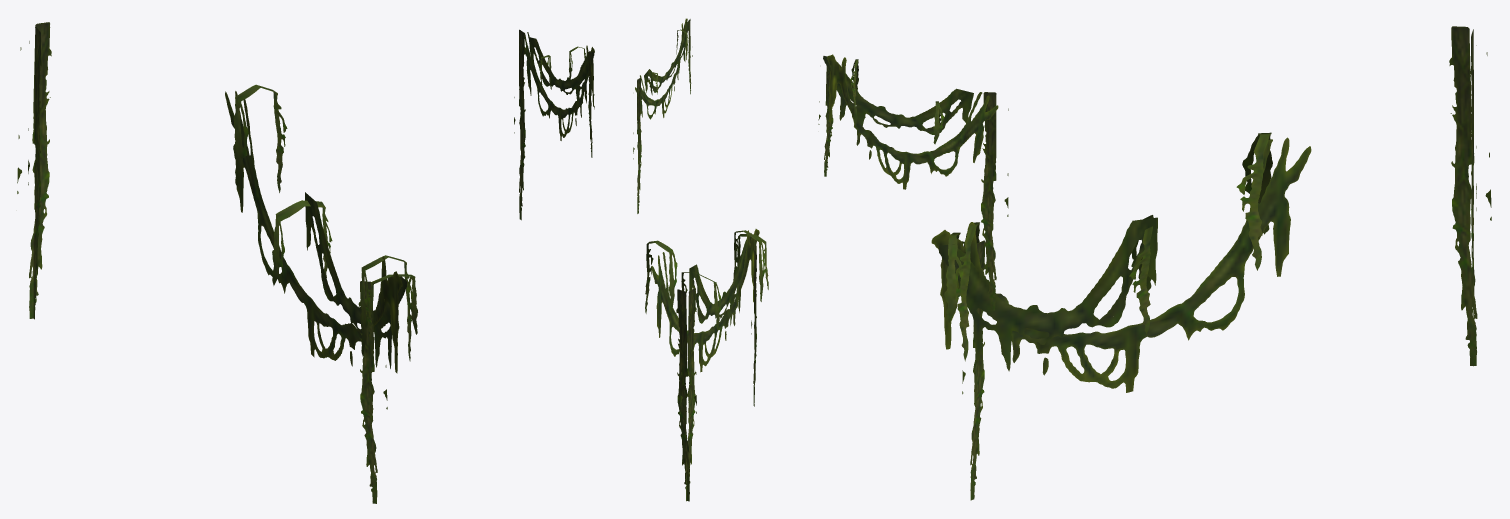
File: s7_fightpve_tengman01.FBX
The picture shows the model from 3 angles, left to right: view 1: azimuth 30°, elevation 25°; view 2: azimuth 150°, elevation 25°; view 3: azimuth 270°, elevation 25°; orthographic projection. The views are drawn at different scales.
Parts seen in each view (by area): view 1: DrawCall_0059, Object02, Object01; view 2: DrawCall_0059, Object01, Object02; view 3: DrawCall_0059, Object02, Object01.
Boxes of the visible parts, <box> form: DrawCall_0059: <box>225,84,417,503</box>; Object02: <box>514,29,594,220</box>; Object01: <box>17,22,51,319</box>; DrawCall_0059: <box>645,229,768,406</box>; Object01: <box>676,288,696,501</box>; Object02: <box>633,18,692,213</box>; DrawCall_0059: <box>931,132,1311,500</box>; Object02: <box>818,54,1008,310</box>; Object01: <box>1449,26,1491,366</box>.
Size of the model in its own units: 148 by 220 by 255.
